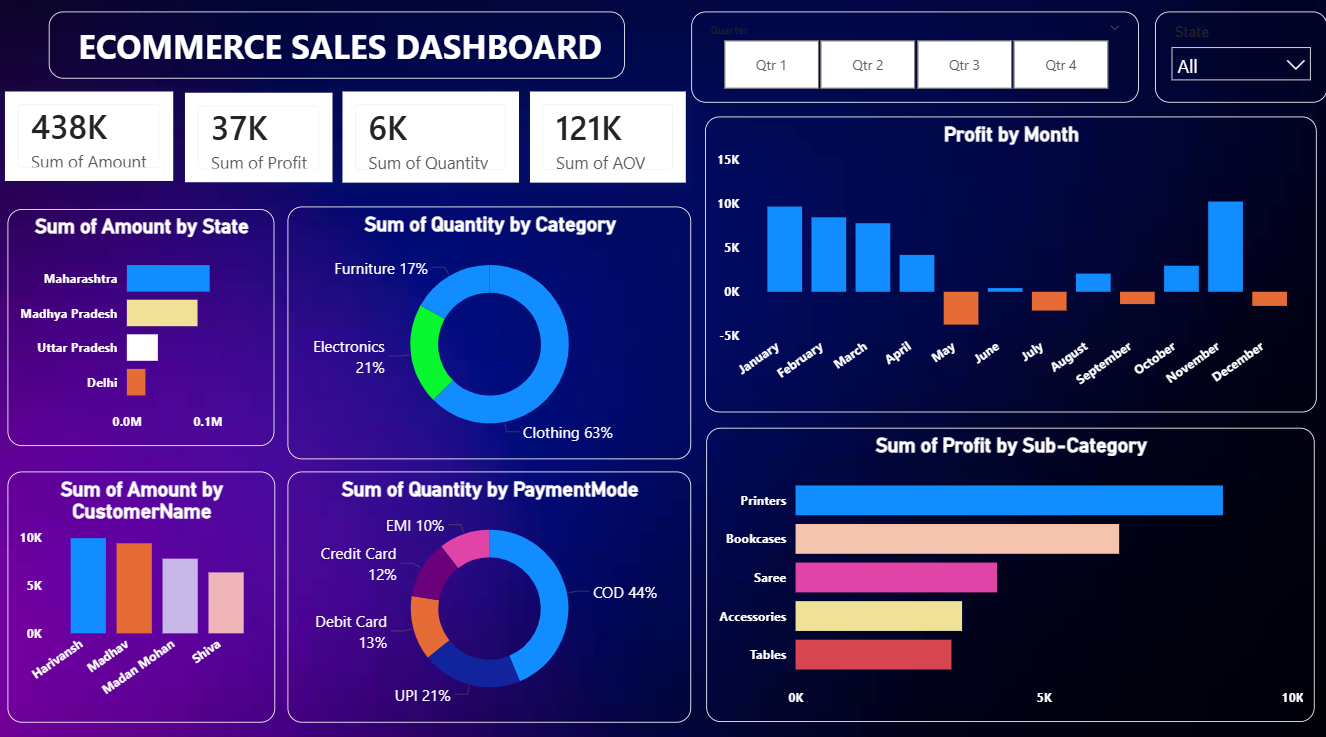

Layout of this report page (visuals, bound fields, positions):
{"tool":"powerbi","page":{"name":"Page 1","canvas":[1280,720],"ordinal":0},"visuals":[{"type":"textbox","box":[46.7,16.5,555.7,64.5],"z":0},{"type":"columnChart","title":"Profit by Month","fields":{"Y":["Details.Profit"],"Category":["Orders.Order Date.Variation.Date Hierarchy.Month"]},"box":[680.6,118,590.1,285.4],"z":1000},{"type":"barChart","fields":{"Category":["Details.Sub-Category"],"Y":["Details.Profit"]},"box":[682,418.5,587.3,284],"z":2000},{"type":"donutChart","fields":{"Category":["Details.Category"],"Y":["Details.Quantity"]},"box":[277.5,205.1,389.7,243.7],"z":3000},{"type":"donutChart","fields":{"Y":["Details.Quantity"],"Category":["Details.PaymentMode"]},"box":[277.5,460.9,389.7,242.5],"z":4000},{"type":"cardVisual","fields":{"Data":["Details.Amount"]},"box":[0,89.3,172.5,96.5],"z":5000},{"type":"cardVisual","fields":{"Data":["Details.Quantity"]},"box":[325.7,89.3,181,98.9],"z":6000},{"type":"cardVisual","fields":{"Data":["Details.Profit"]},"box":[173.7,90.5,152,96.5],"z":7000},{"type":"cardVisual","fields":{"Data":["Details.AOV"]},"box":[506.7,89.3,160.5,98.9],"z":8000},{"type":"barChart","fields":{"Y":["Details.Amount"],"Category":["Orders.State"]},"box":[6.9,207.2,258,229.2],"z":9000},{"type":"columnChart","fields":{"Category":["Orders.CustomerName"],"Y":["Details.Amount"]},"box":[7,461,258,242],"z":10000},{"type":"slicer","fields":{"Values":["Orders.Order Date.Variation.Date Hierarchy.Quarter"]},"box":[666.9,16.5,432.2,87.8],"z":11000},{"type":"slicer","fields":{"Values":["Orders.State"]},"box":[1114.2,16.5,166,87.8],"z":12000}]}

Visuals, with their boxes in screenshot pixels (x1, y1, x2, y2), scaled from the page's 1280x720 canvas onto the 1326x737 screenshot:
textbox: bbox(48, 17, 624, 83)
"Profit by Month" columnChart: bbox(705, 121, 1316, 413)
barChart - Details.Sub-Category x Details.Profit: bbox(707, 428, 1315, 719)
donutChart - Details.Category x Details.Quantity: bbox(287, 210, 691, 459)
donutChart - Details.Quantity x Details.PaymentMode: bbox(287, 472, 691, 720)
cardVisual - Details.Amount: bbox(0, 91, 179, 190)
cardVisual - Details.Quantity: bbox(337, 91, 525, 193)
cardVisual - Details.Profit: bbox(180, 93, 337, 191)
cardVisual - Details.AOV: bbox(525, 91, 691, 193)
barChart - Details.Amount x Orders.State: bbox(7, 212, 274, 447)
columnChart - Orders.CustomerName x Details.Amount: bbox(7, 472, 275, 720)
slicer - Orders.Order Date.Variation.Date Hierarchy.Quarter: bbox(691, 17, 1139, 107)
slicer - Orders.State: bbox(1154, 17, 1325, 107)
